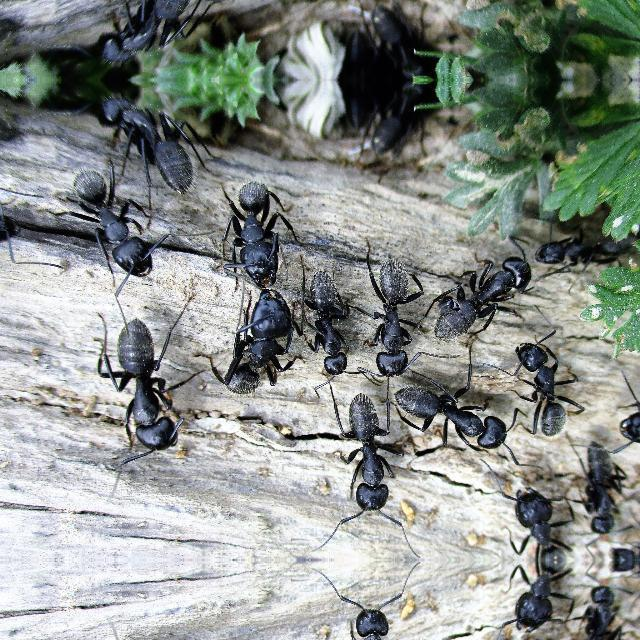Camponotus: (83, 299, 215, 469), (420, 222, 540, 354), (317, 369, 409, 533), (64, 160, 160, 288), (217, 274, 306, 408), (392, 369, 518, 463), (494, 326, 586, 440), (90, 94, 192, 196), (214, 162, 292, 280), (356, 240, 422, 378), (532, 212, 634, 282), (299, 266, 363, 376), (90, 0, 190, 66), (490, 483, 572, 559), (490, 561, 572, 637), (317, 586, 409, 640), (570, 439, 618, 537), (570, 582, 616, 640), (608, 384, 640, 460)
